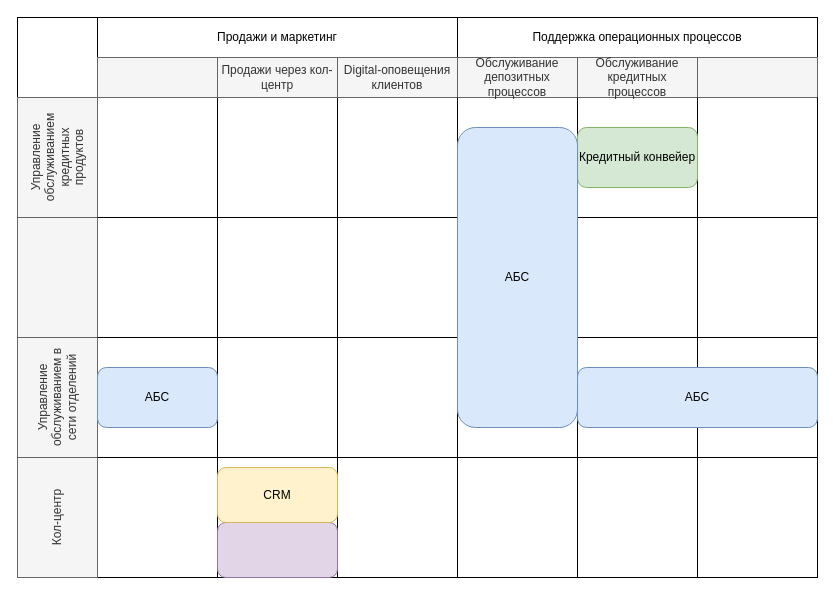
This 836x596 diagram has some shape labels left out. The shapes that lost their labels are listed below. From the top down, each one's box as (x1, y1, x2, y2) in pixels, then its label:
(96, 56, 218, 98): Продажи в сети отделений
(696, 56, 818, 98): Управление договорами
(16, 216, 98, 338): Управление обслуживанием депозитных продуктов
(216, 522, 338, 578): Партнерский кол-центр
